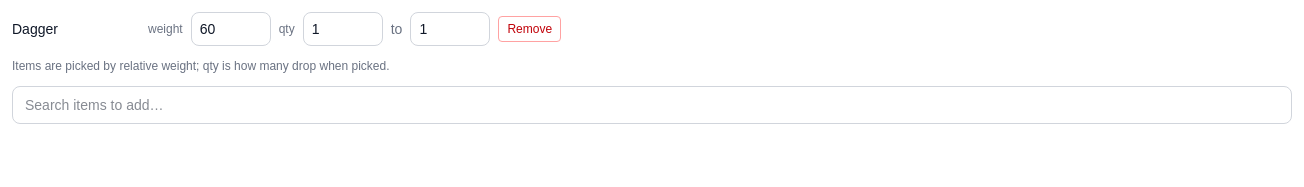
LootItemsEditor › hides results that are already in the list
The width and height of the screenshot is (1304, 187).
Type "a" into the field labelled "Search items to add…" at (652, 105), box [12, 86, 1292, 124]
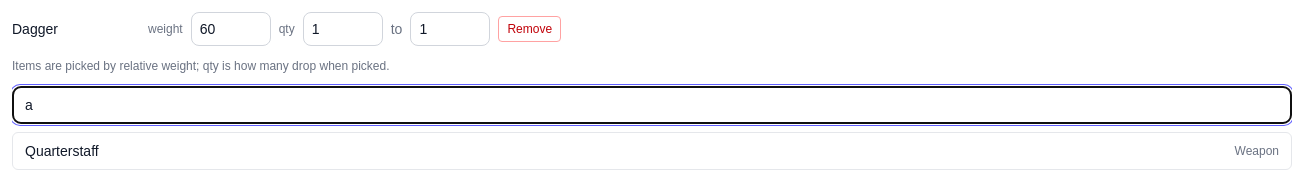
Result: the button with aria-label "add quarterstaff" is shown at [12, 132, 1292, 170]
